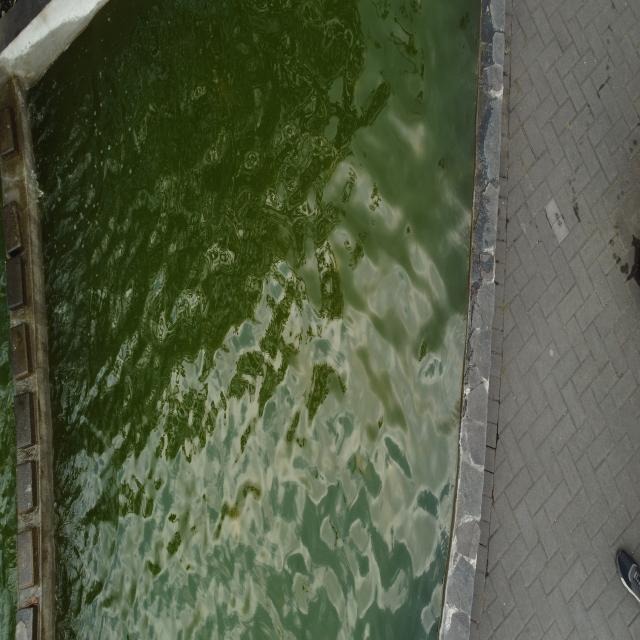Ponds: (1, 1, 507, 640)
